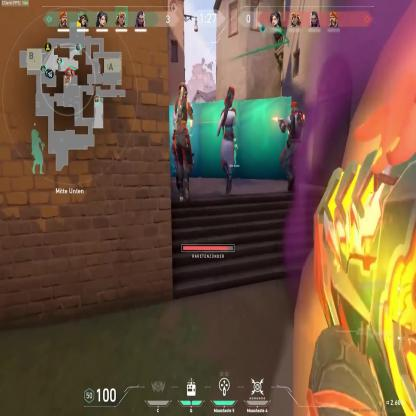enemy: (279, 98, 303, 199), (174, 79, 192, 200), (218, 86, 235, 197), (173, 113, 185, 200)
enemy_head: (178, 82, 188, 98), (290, 101, 299, 116), (226, 93, 233, 109)
